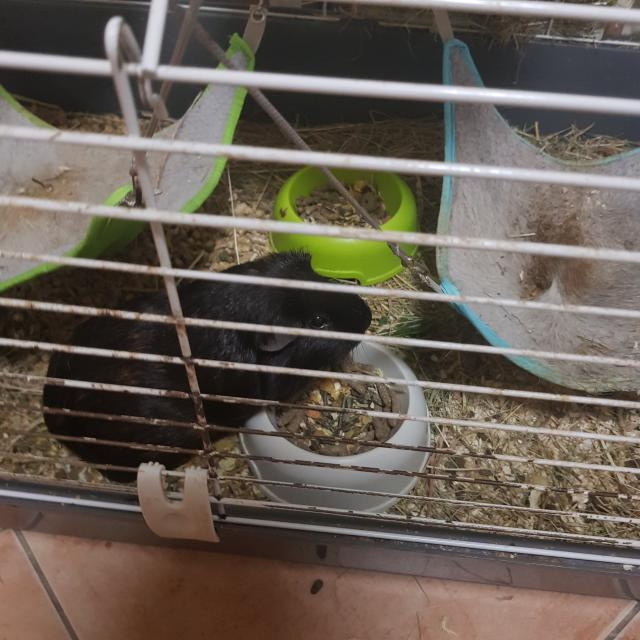guinea pig: (34, 245, 375, 488)
